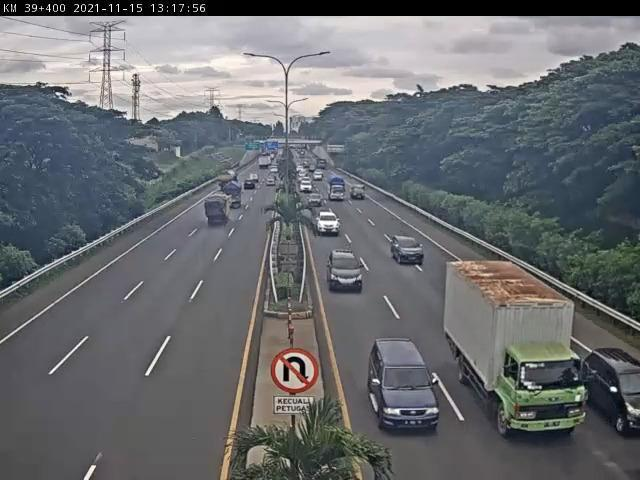car: (366, 335, 441, 435), (584, 345, 640, 437), (327, 250, 367, 294), (391, 233, 428, 267), (316, 210, 342, 238), (309, 193, 326, 210)
truck: (443, 260, 588, 440), (204, 195, 231, 229), (142, 225, 166, 254)
